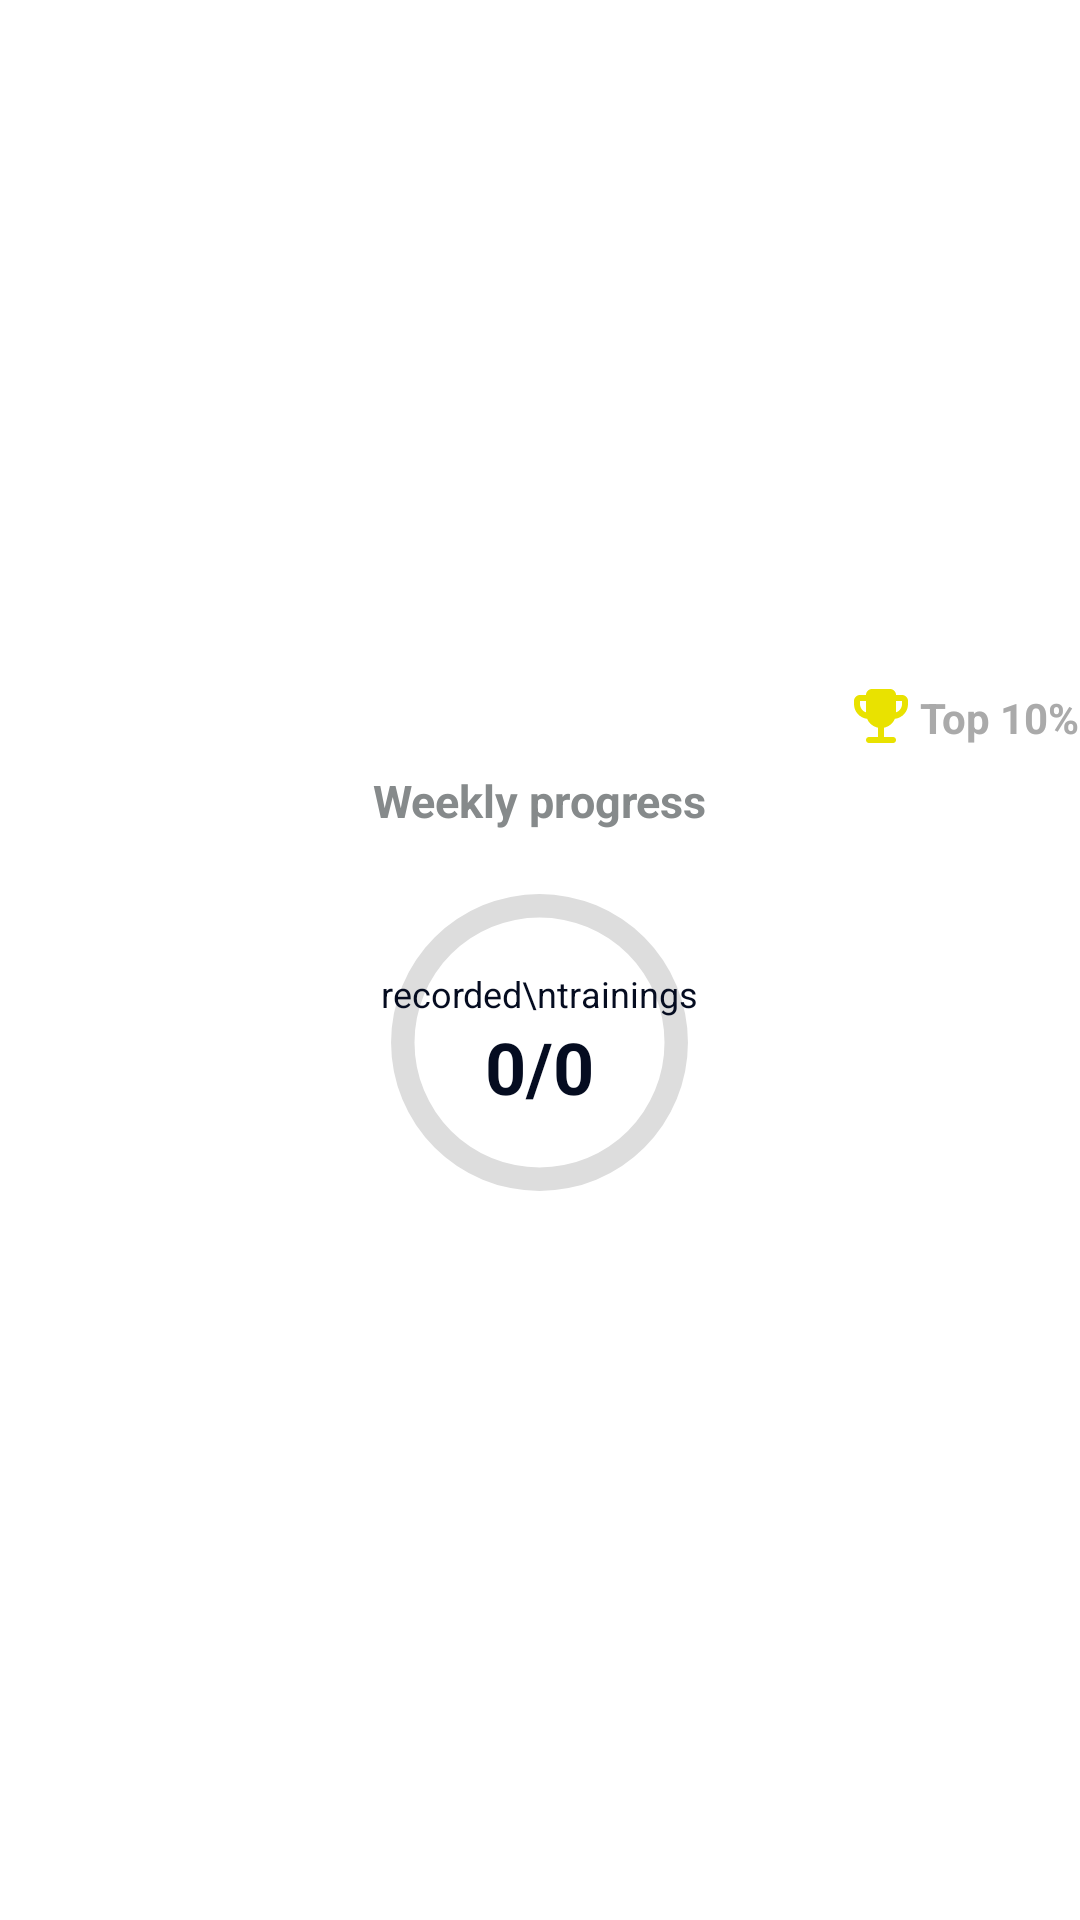

Named icons in this screenshot (1080px x 1920px) and their bounding boxes, bbox=[x1, y1, x2, y2]:
Trophy Icon: bbox=[854, 689, 908, 743]
